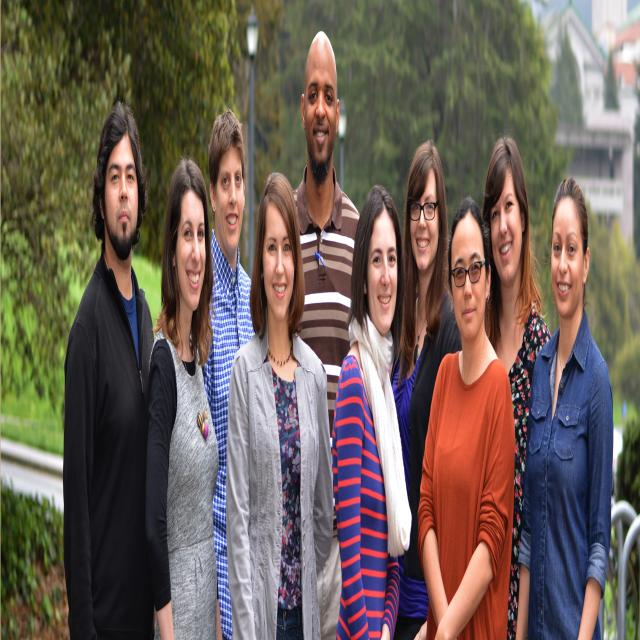body: (225, 169, 335, 640), (62, 99, 155, 640), (513, 174, 616, 640), (416, 192, 517, 640), (281, 28, 363, 543), (143, 153, 224, 640), (332, 184, 416, 640), (389, 139, 462, 640), (482, 132, 553, 640), (204, 104, 257, 640)
